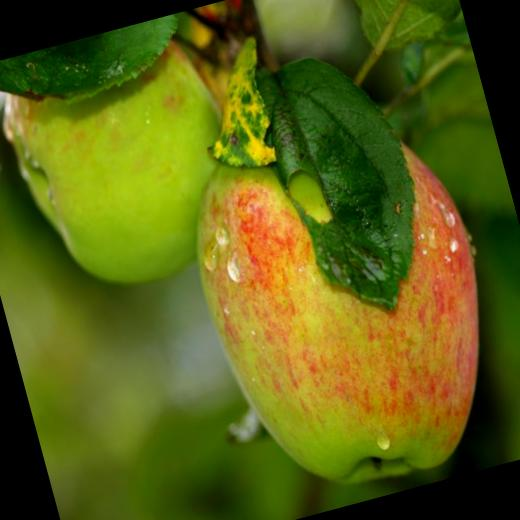Apple: (147, 72, 520, 520), (0, 38, 259, 314), (249, 0, 417, 129)
